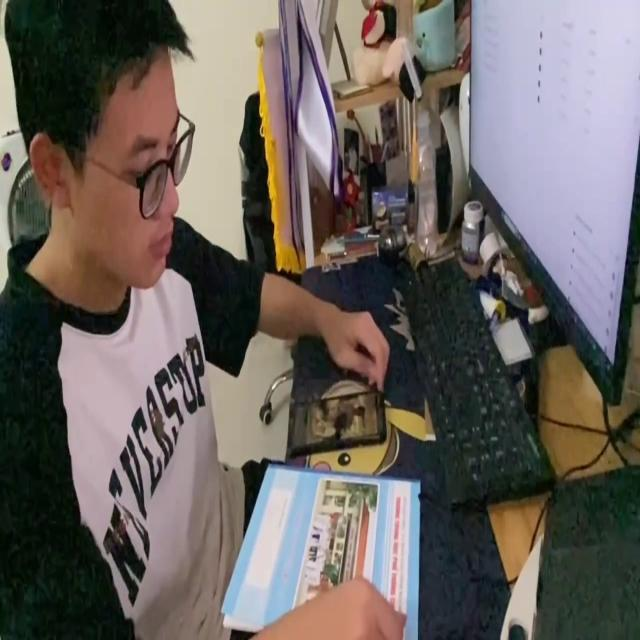book: (224, 453, 423, 640)
laptop: (464, 0, 640, 408)
phone: (288, 384, 387, 450)
student: (0, 0, 416, 640)
